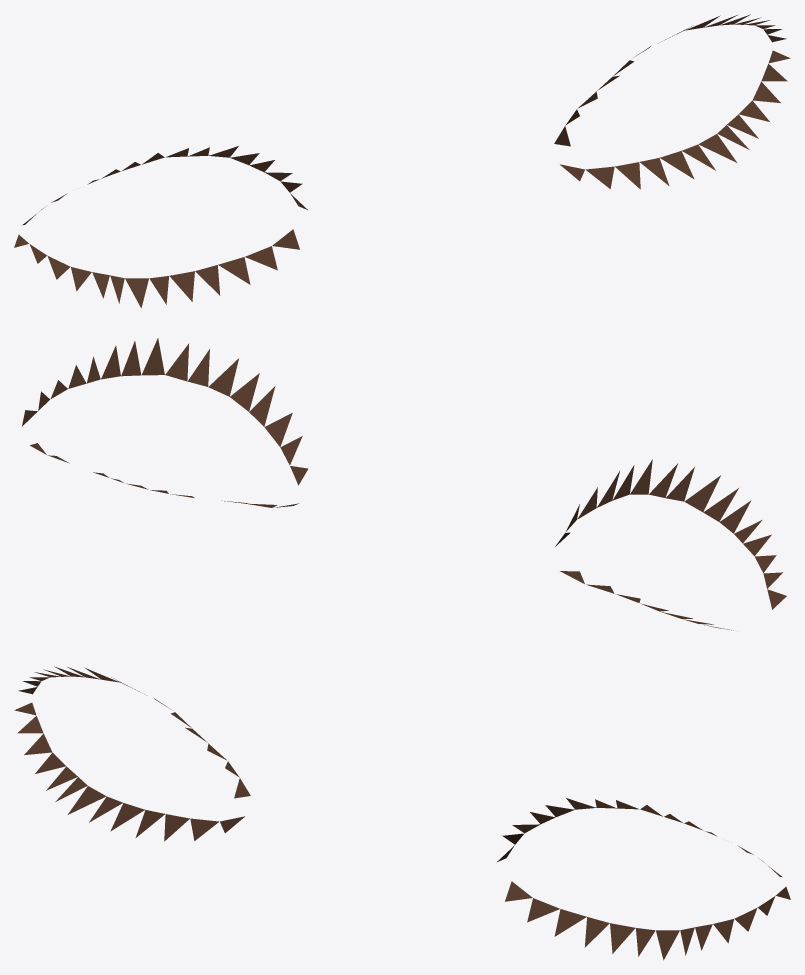
The model's file is miscEyeLashesFemale.glb.
The picture shows the model from 3 angles, top to bottom: view 1: azimuth 30°, elevation 25°; view 2: azimuth 150°, elevation 25°; view 3: azimuth 330°, elevation 25°; orthographic projection.
Visible parts, largest first — view 1: miscEyeLashesFemale; view 2: miscEyeLashesFemale; view 3: miscEyeLashesFemale.
Part boxes in pixels (<box>): miscEyeLashesFemale: <box>14,14,790,308</box>; miscEyeLashesFemale: <box>22,338,786,630</box>; miscEyeLashesFemale: <box>14,666,790,960</box>.
Size of the model in its own units: 0.1244 by 0.0236 by 0.0145.
